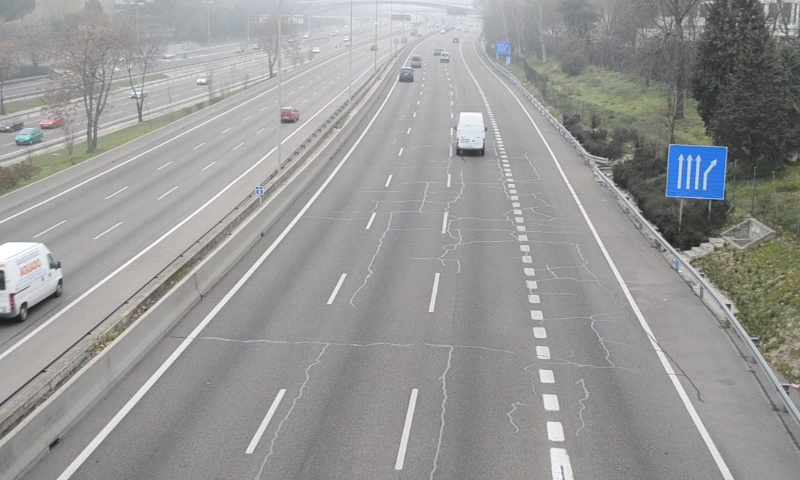car: (398, 66, 415, 82)
van: (456, 111, 486, 156)
